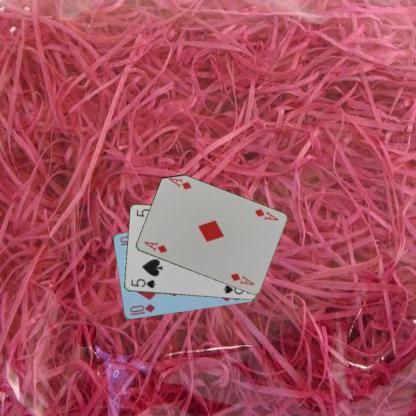10d: (127, 302, 156, 316)
5s: (128, 276, 157, 290)
Ad: (252, 206, 279, 222), (141, 239, 168, 254)
